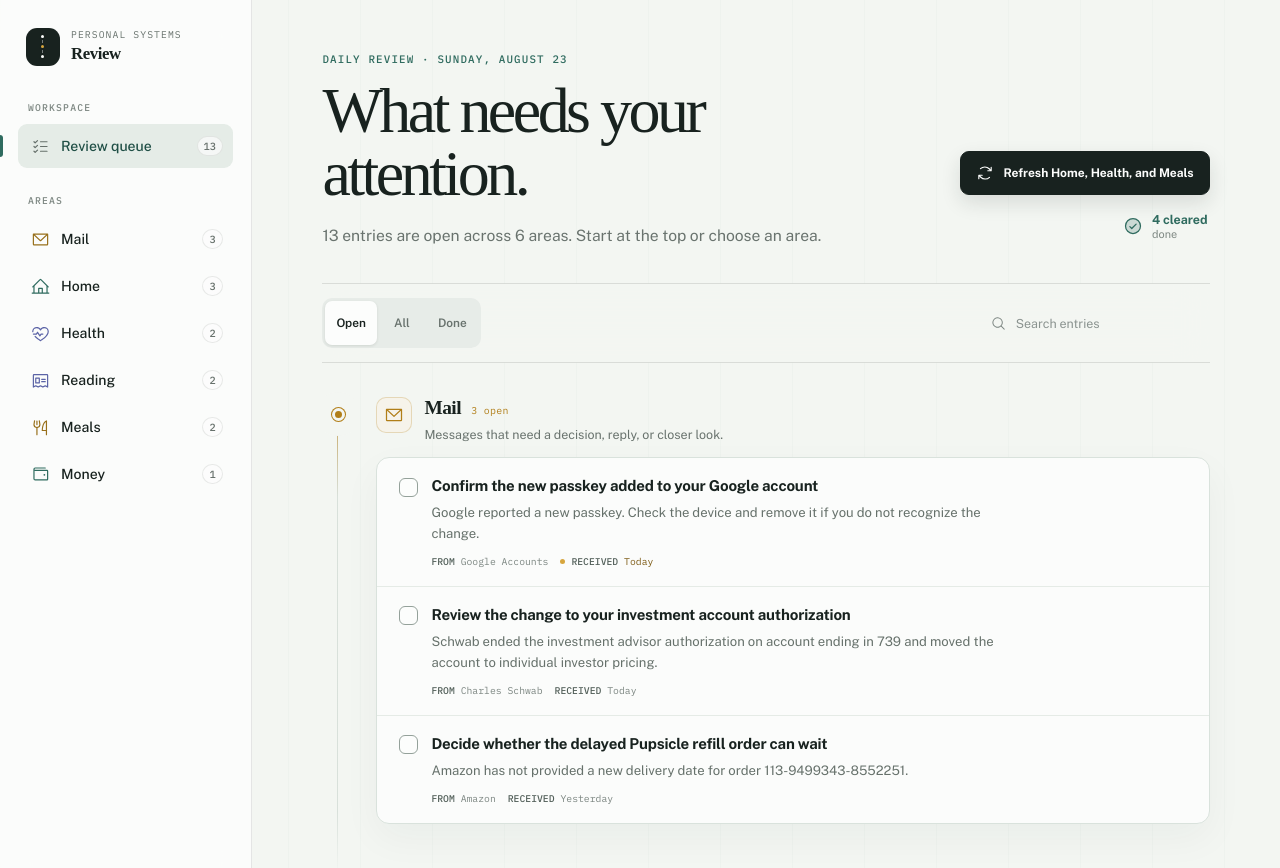
ReviewApp › composes text search with status filters and exposes a useful reset
Check: the heading "Mail" is shown, box [424,397,461,419]
Click the button named "Mail3" at (126, 239), box [18,217,233,261]
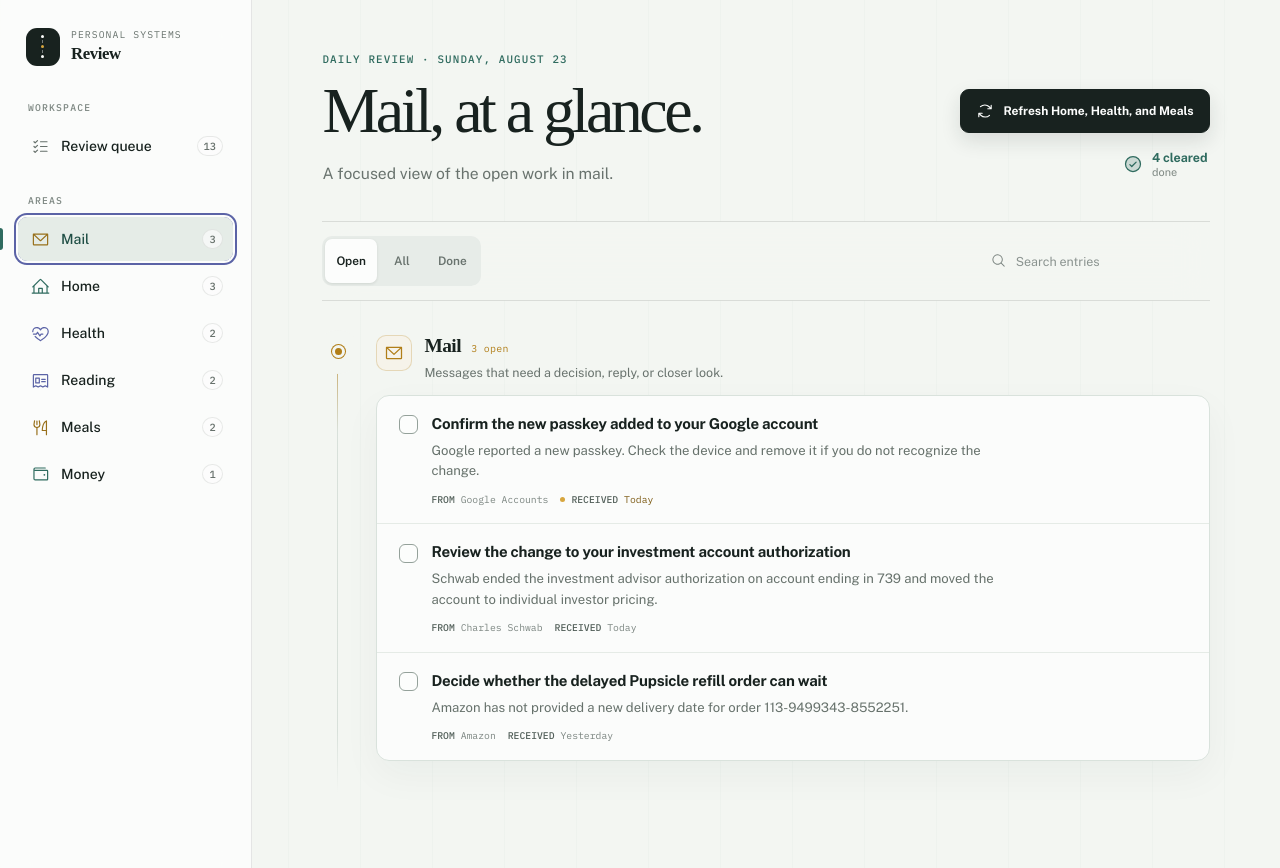
Type "Google Accounts" into the search field labelled "Search entries" at (1106, 260), box [1014,252,1199,269]
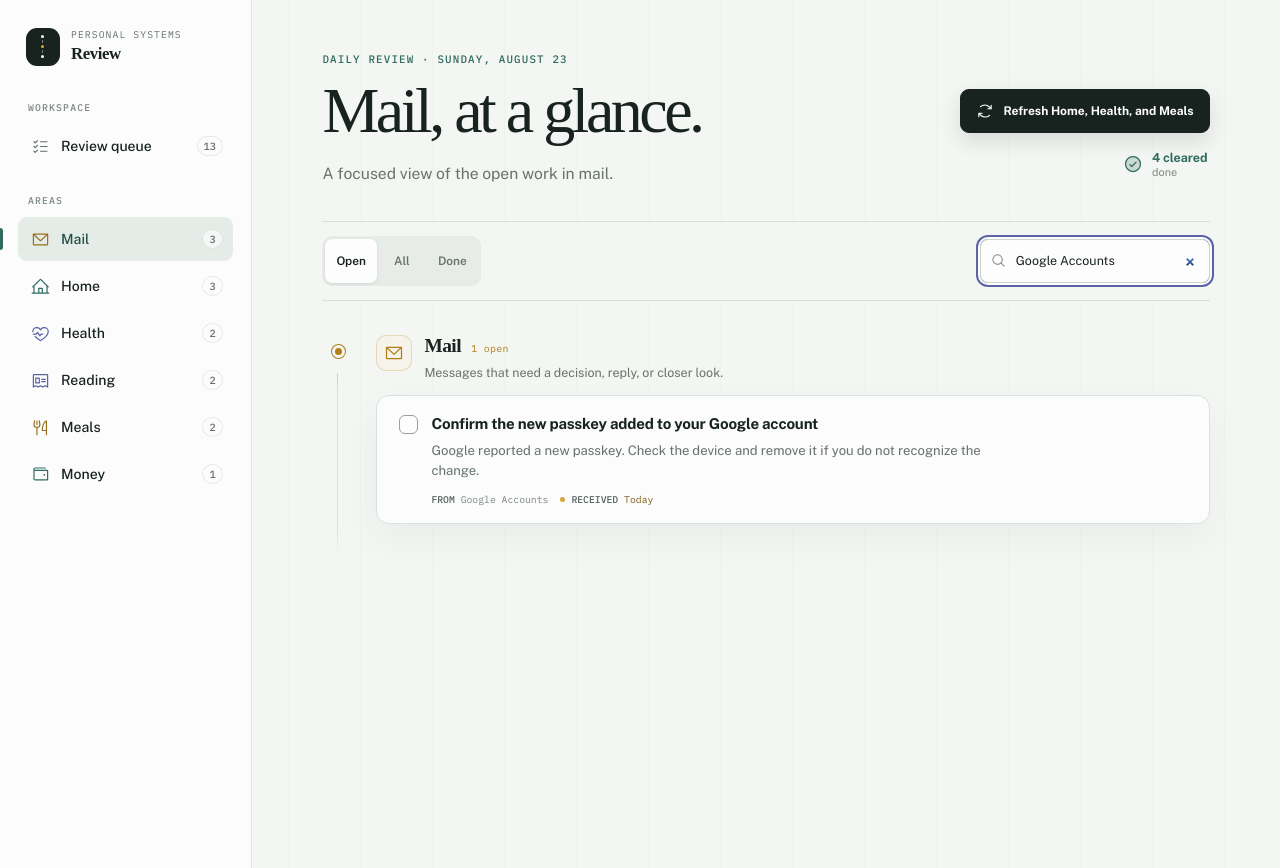
Check: the heading "Confirm the new passkey added to your Google account" is shown, box [431,415,818,432]
Click the button "Done" at (452, 260), box [427,238,478,282]
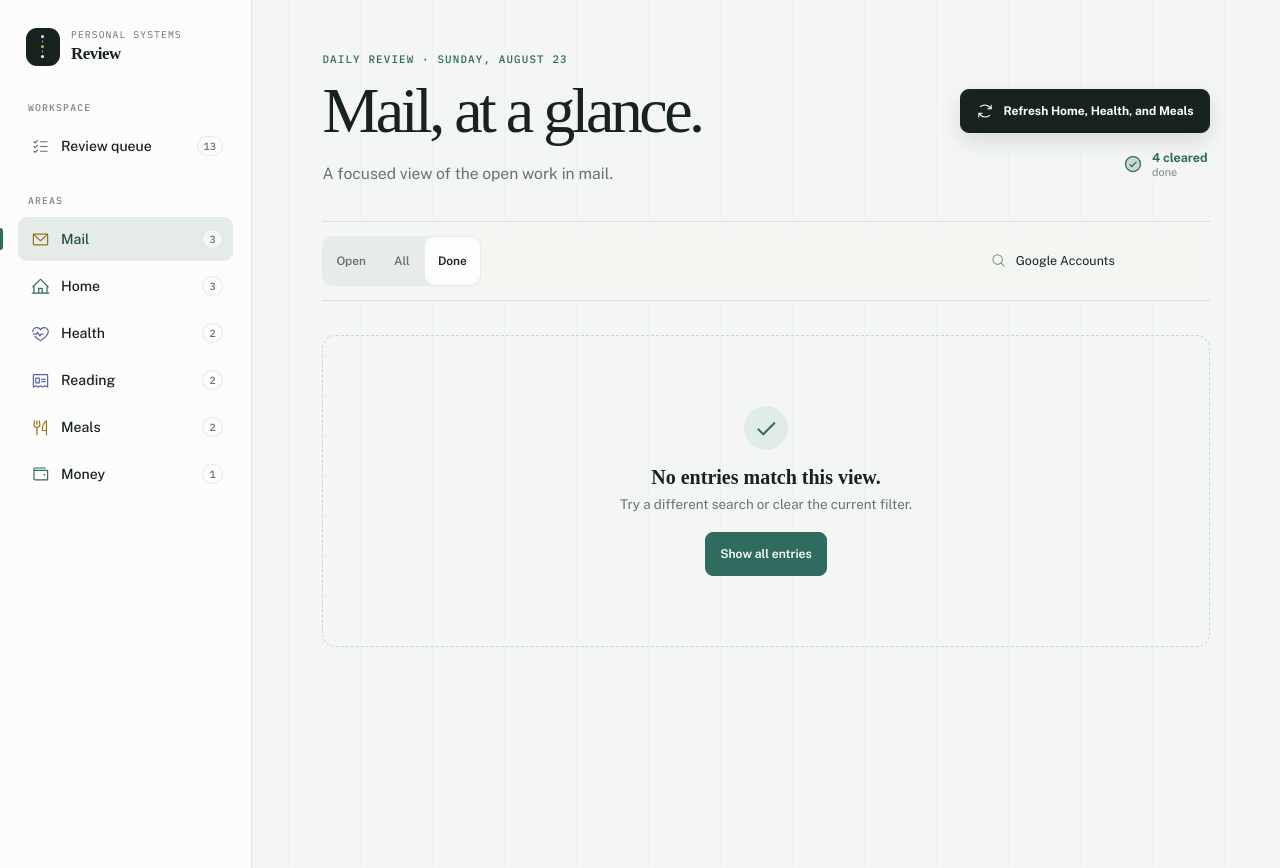
Check: the heading "No entries match this view." is shown, box [651,466,881,488]
Click the button "Show all entries" at (766, 554), box [705,532,827,576]
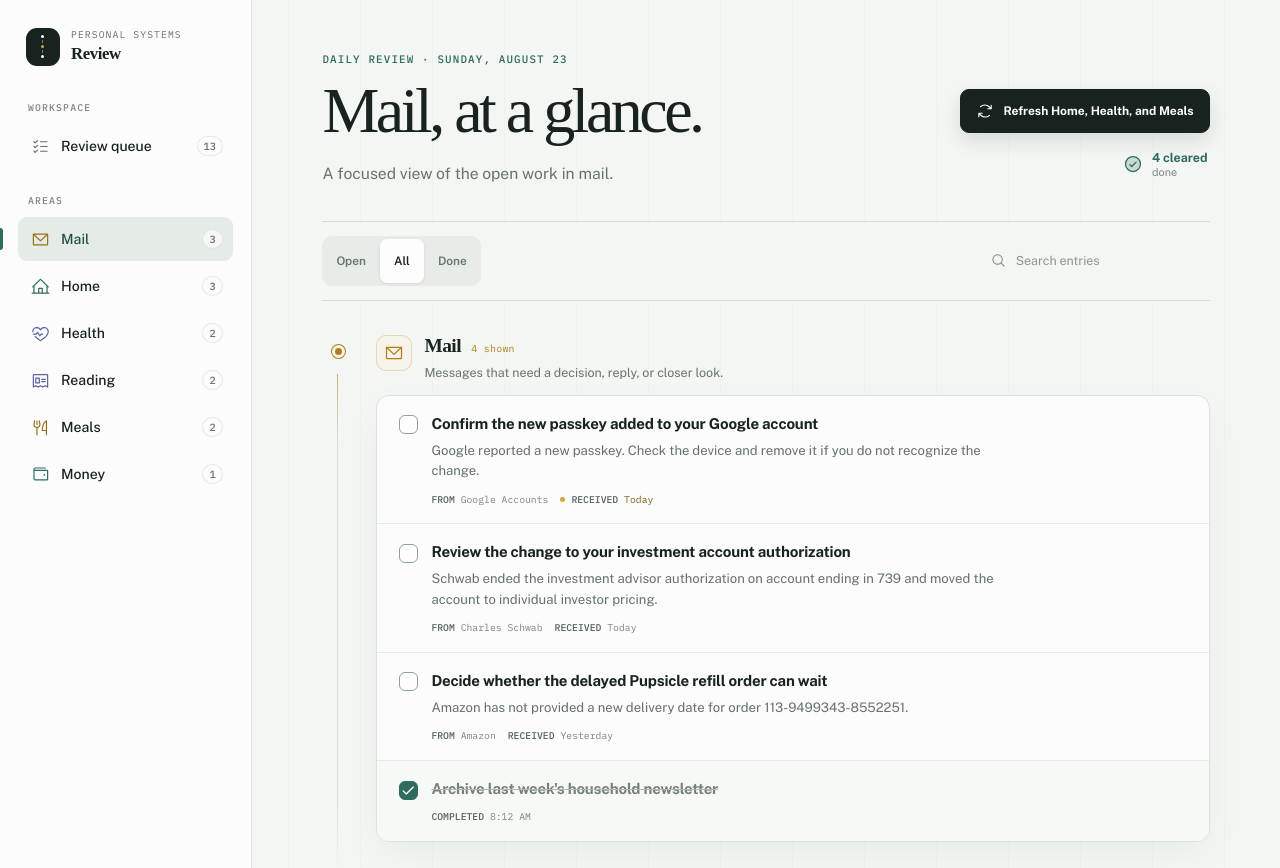
Check: the search field labelled "Search entries" is empty, box [1014,252,1199,269]
Check: the heading "Mail" is shown, box [424,334,461,356]
Check: the button named "Restore Archive last week's household newsletter" is shown, box [386,768,430,812]
